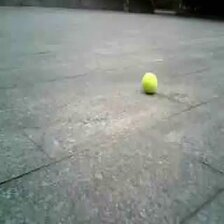tennis: (141, 72, 157, 93)
